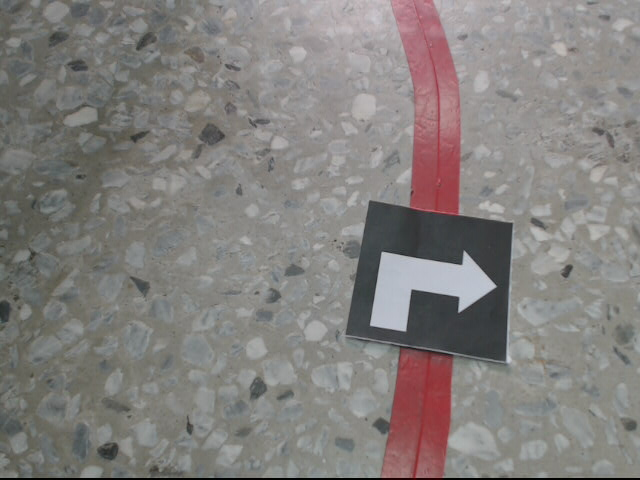right: (344, 199, 516, 364)
